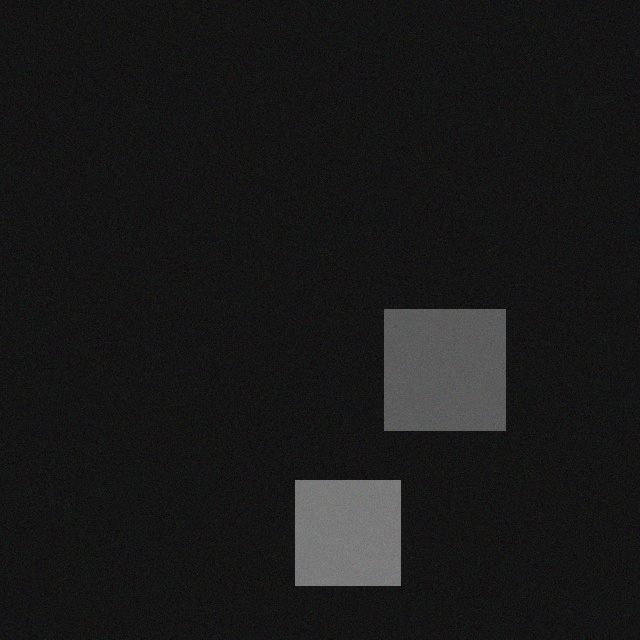square: (380, 295, 501, 416), (291, 466, 396, 571)
